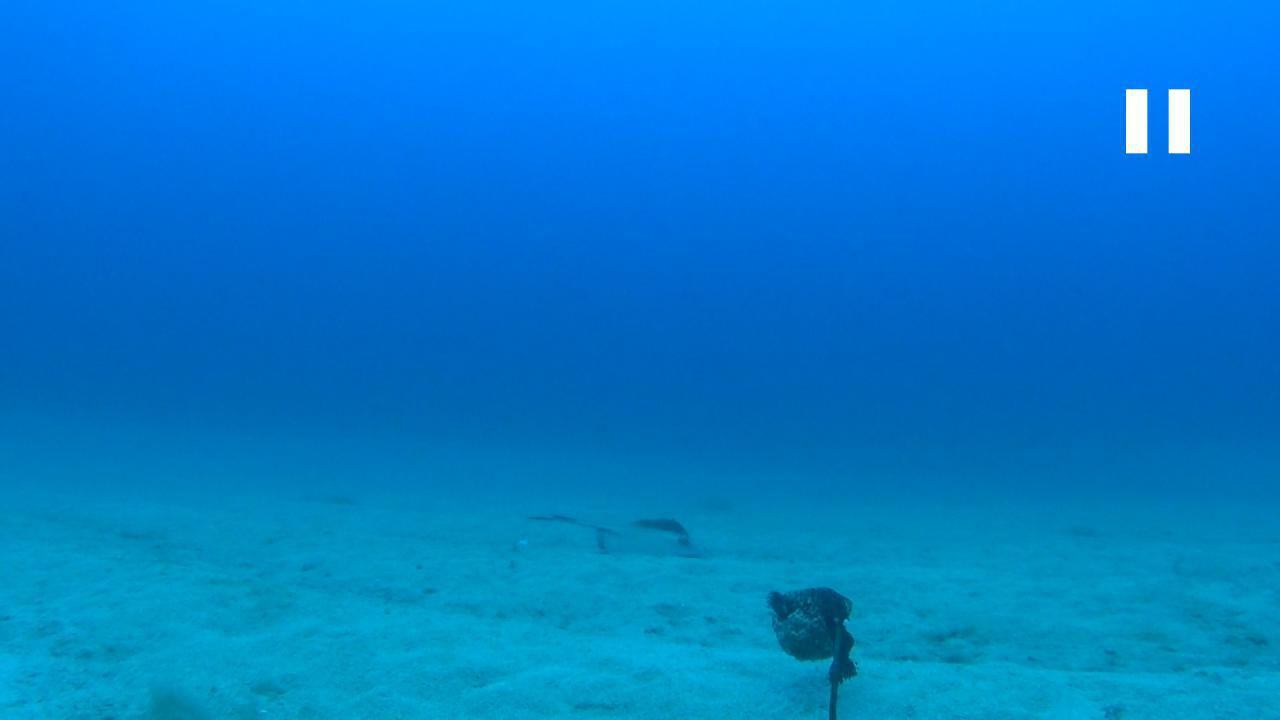dasyatis: (524, 512, 709, 560)
